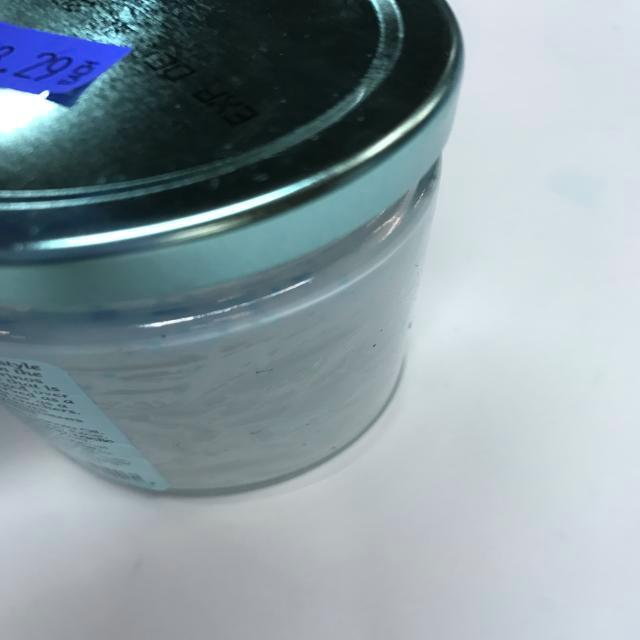glass: (0, 145, 473, 521)
metal: (0, 0, 468, 315)
